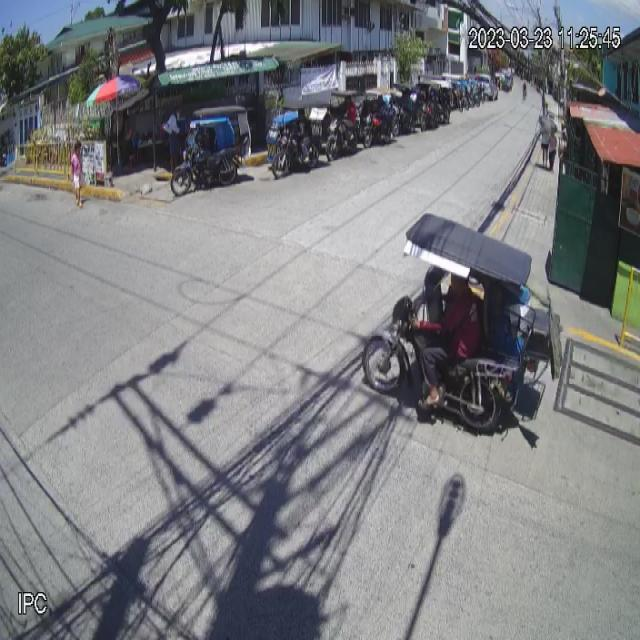Tricycle: (362, 213, 553, 441)
